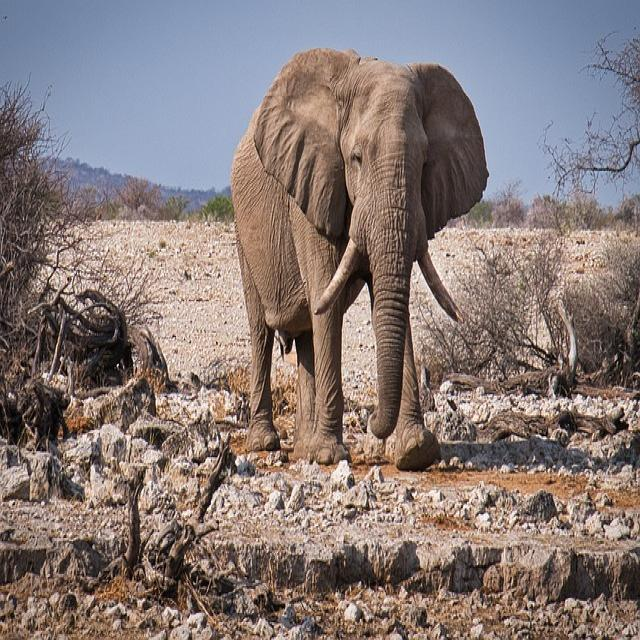Herbivorous: (230, 48, 490, 472)
